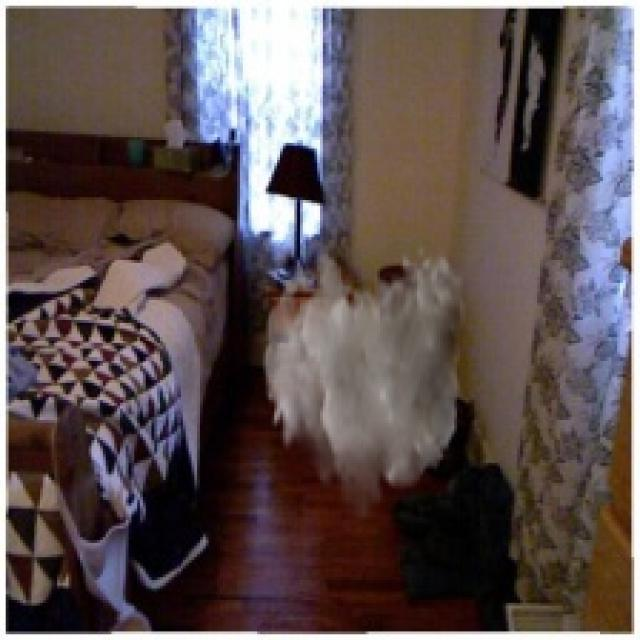Smoke: (263, 243, 468, 523)
